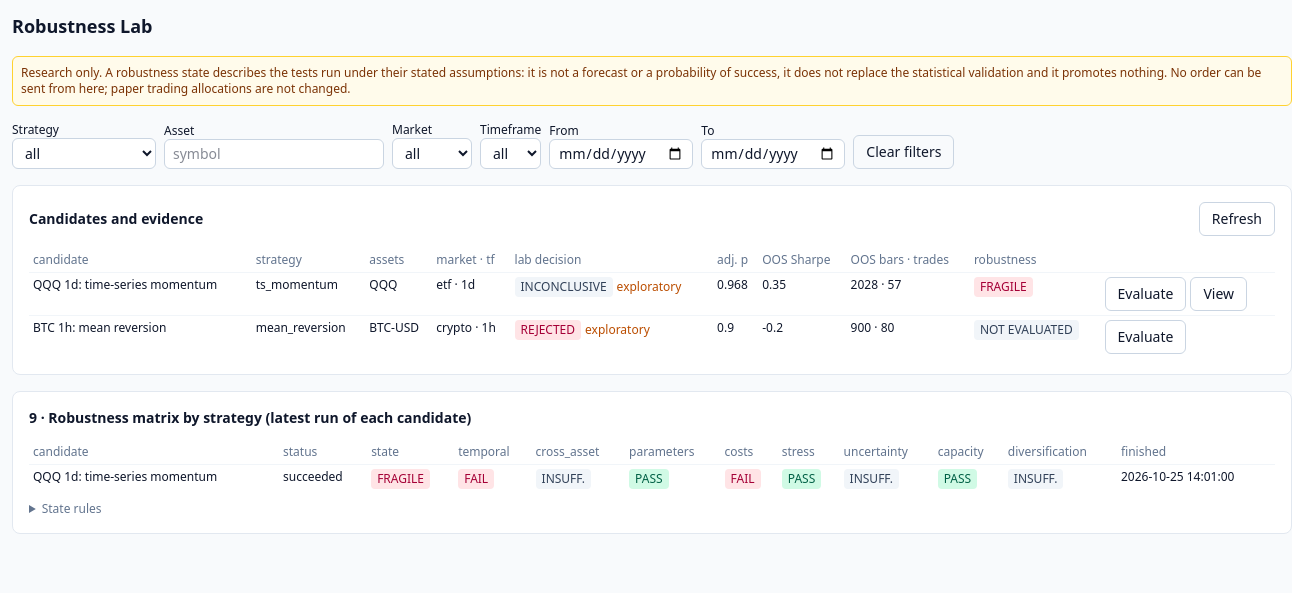
Scenario: Robustness Lab › queues an evaluation and cancels it
expect the text "BTC 1h: mean reversion" is shown: met, box [33,319,166,336]
Click the button "Evaluate" in the row of "BTC 1h: mean reversion": (1145, 337) [1104,320,1186,354]
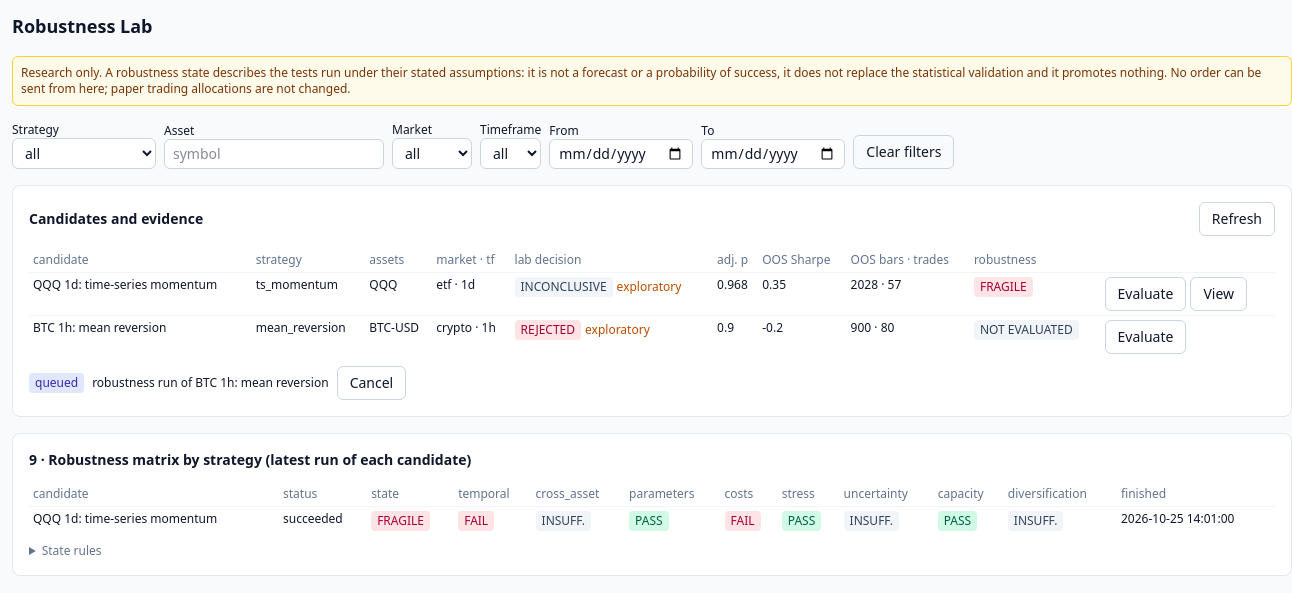
expect the list item "queued robustness run of BTC 1h: mean reversion Cancel" is shown: met, box [29,366,406,400]
Click the button "Cancel": (371, 383) [337,366,406,400]
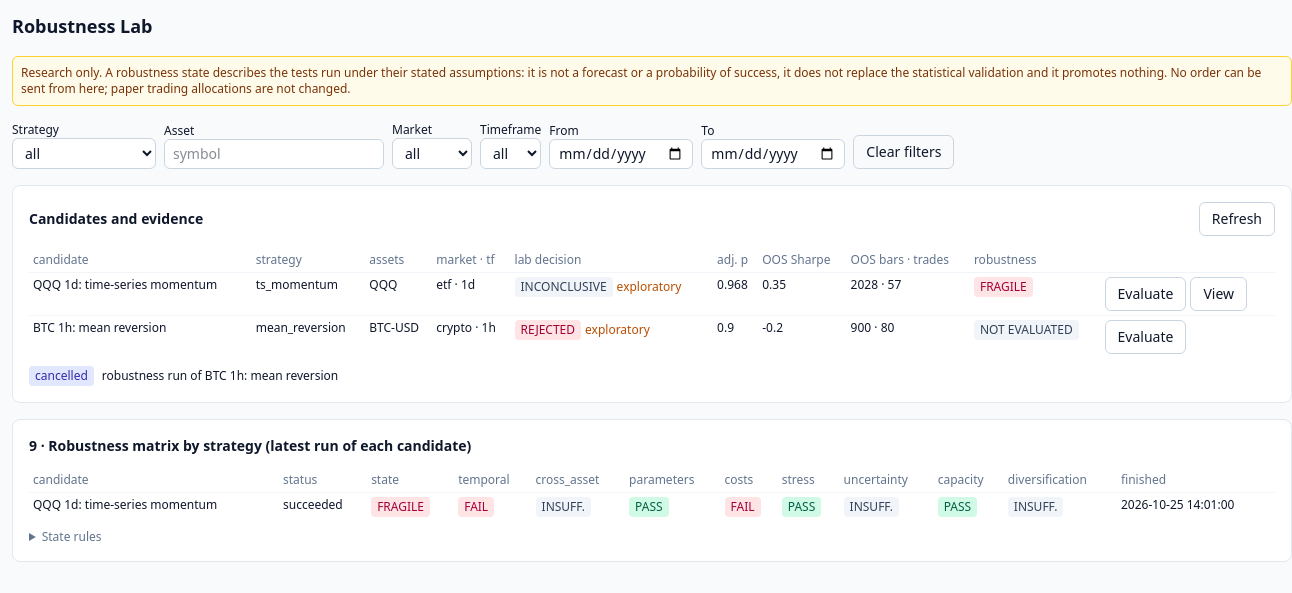
expect the text "cancelled" is shown: met, box [29,366,94,386]
